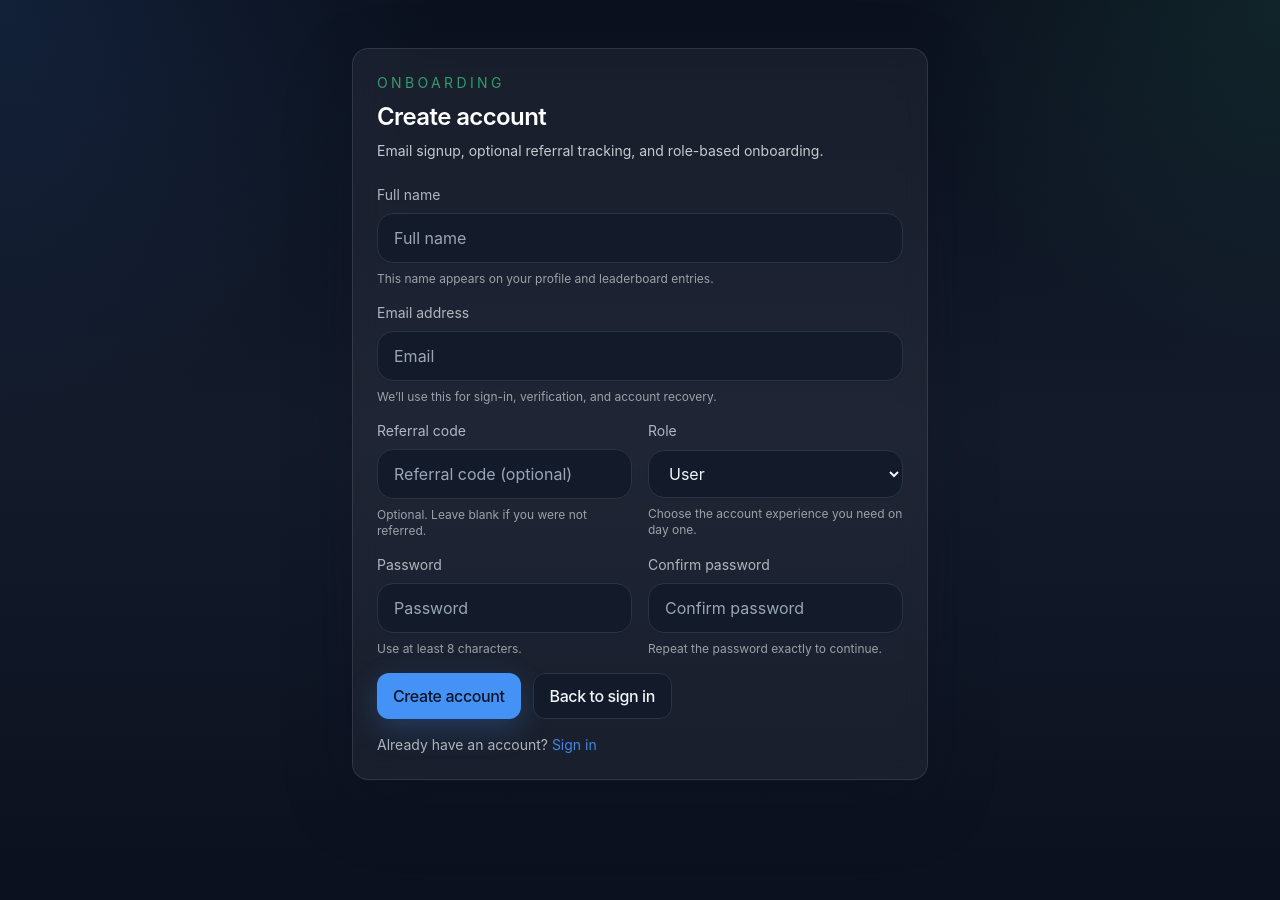
Test: SignupPage › shows a post-signup email confirmation state for registered users
In the field with placeholder "Full name": (640, 238) [377, 213, 903, 263], type "New User"
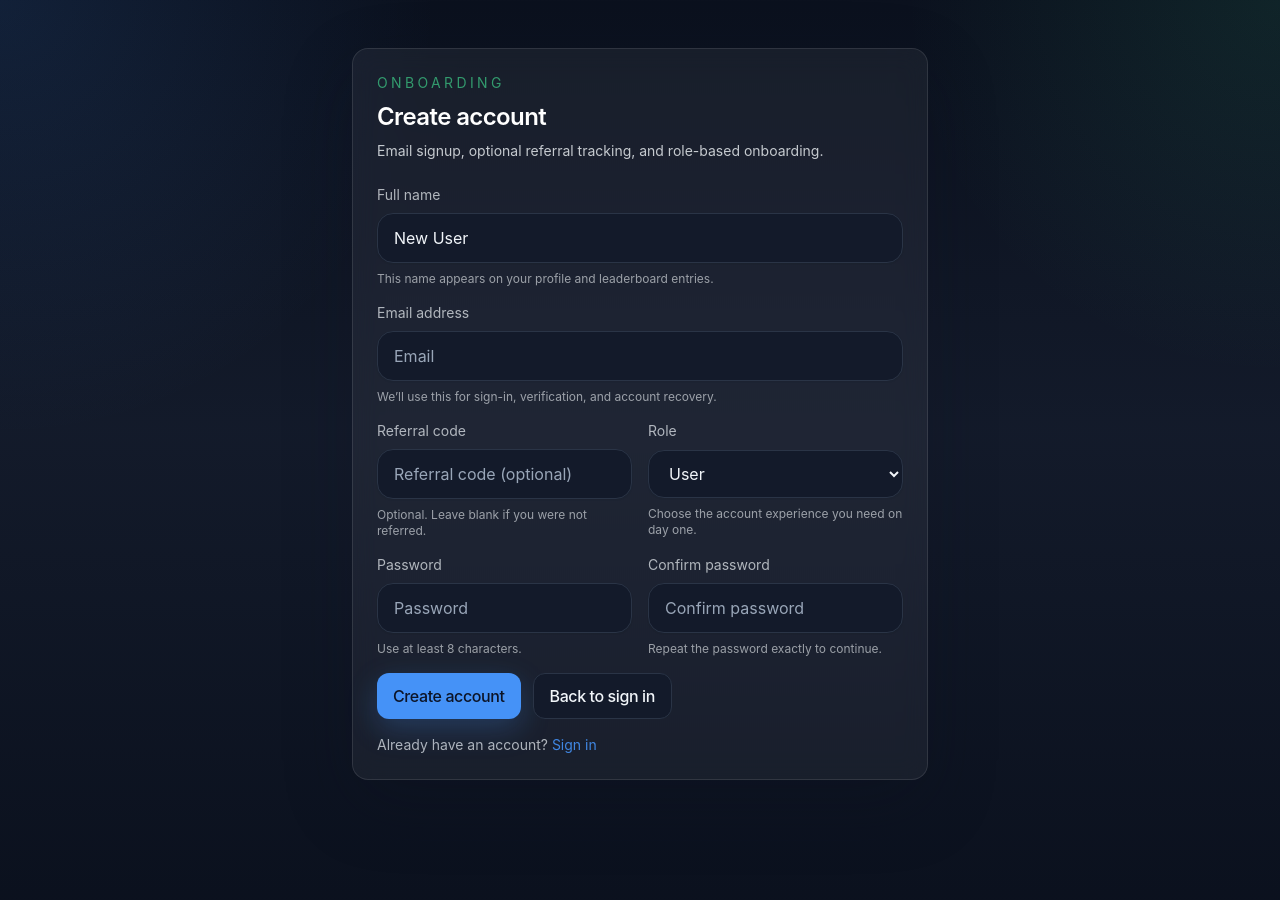
In the field with placeholder "Email": (640, 356) [377, 331, 903, 381], type "new.user@example.com"
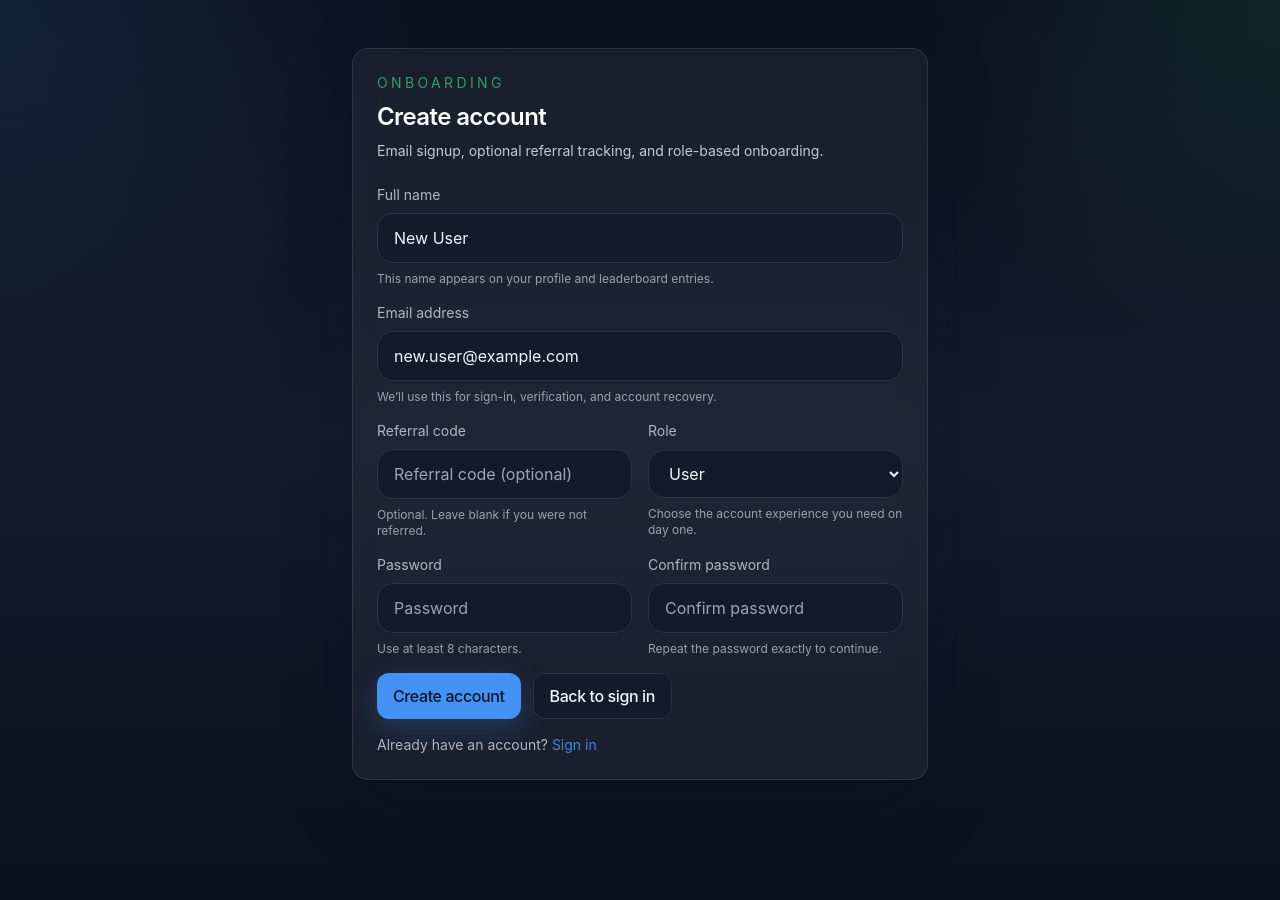
In the password field with placeholder "Password": (504, 608) [377, 583, 632, 633], type "Password123!"
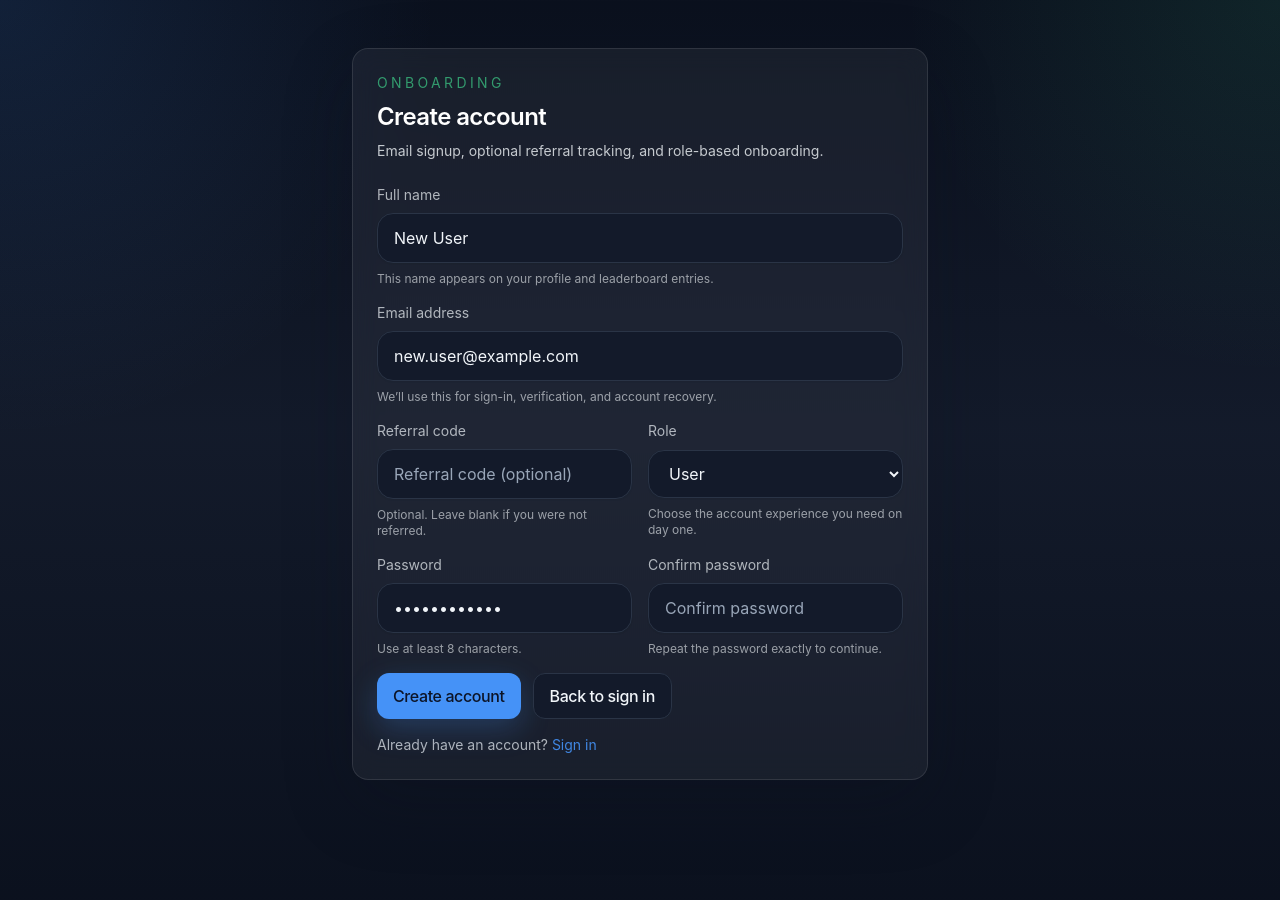
In the password field with placeholder "Confirm password": (776, 608) [648, 583, 903, 633], type "Password123!"
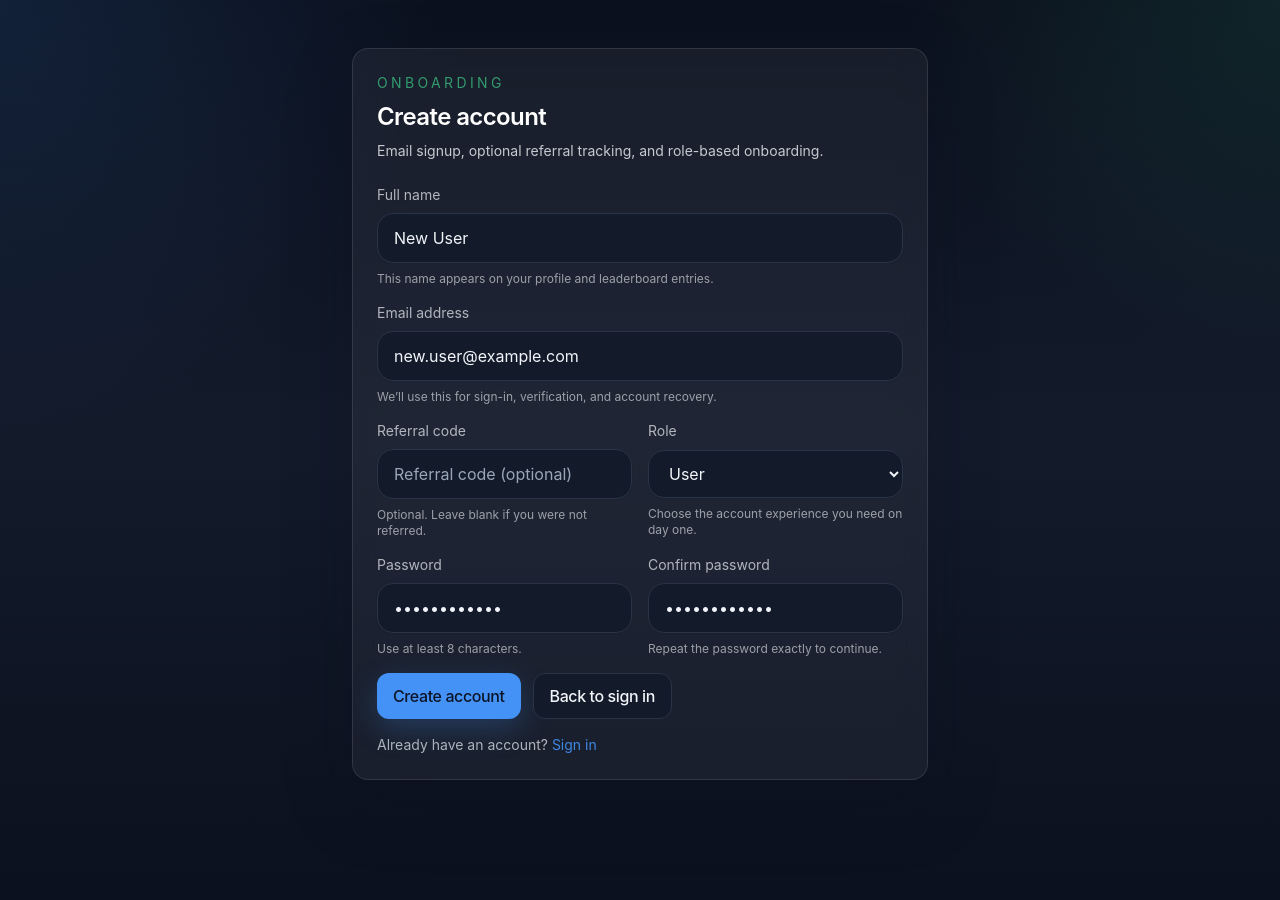
Click the button "Create account": (449, 696) [377, 673, 520, 719]
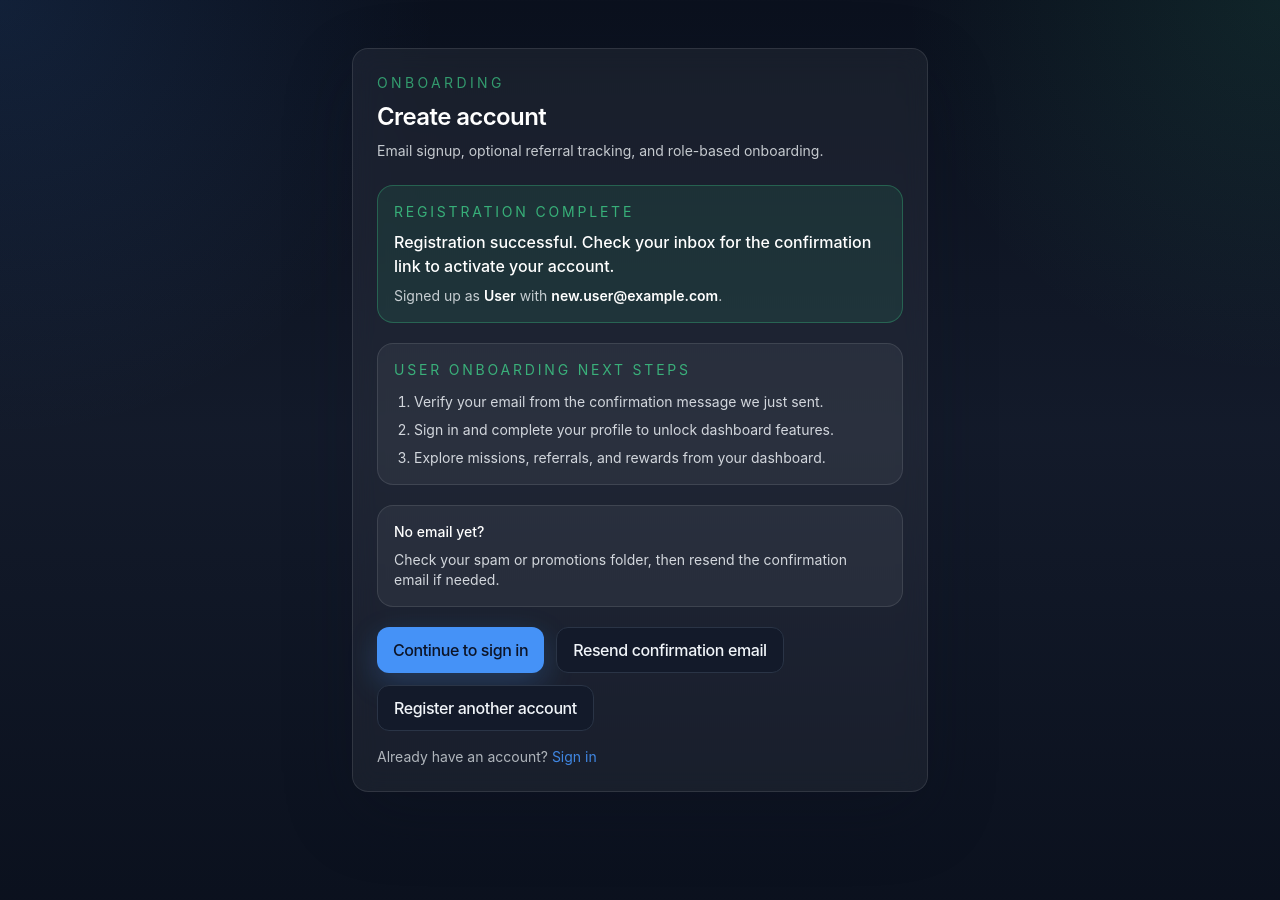
Now the text "Registration complete" is shown, box [394, 203, 634, 220]
Now the heading "User onboarding next steps" is shown, box [394, 361, 691, 378]
Now the text "new.user@example.com" is shown, box [551, 287, 718, 304]
